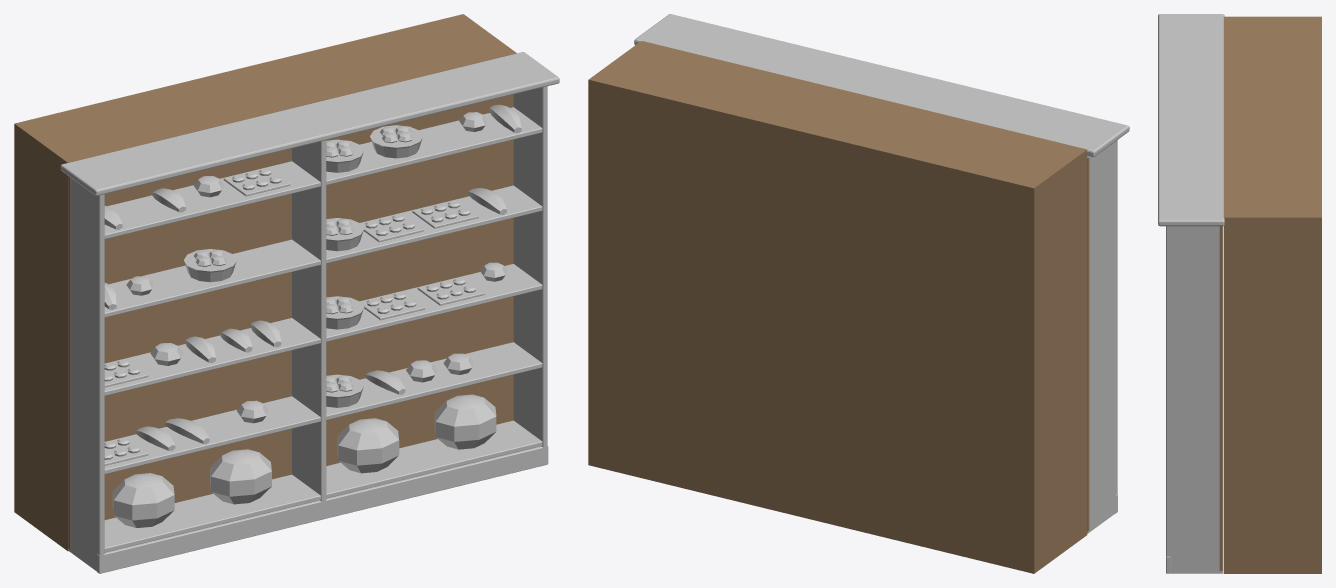
File: furn_shelves_bread.glb
3 views of the same model, side by side, from view 1: azimuth 30°, elevation 25°; view 2: azimuth 150°, elevation 25°; view 3: azimuth 270°, elevation 25° (orthographic). The views are drawn at different scales.
Parts seen in each view (by area): view 1: furn_shelves_bread; view 2: furn_shelves_bread; view 3: furn_shelves_bread.
Boxes of the visible parts, x1,y1,x2,y2 form: furn_shelves_bread: (14,14,559,573); furn_shelves_bread: (588,14,1129,573); furn_shelves_bread: (1158,14,1321,573).
Bounding box in the file's own units: 3.1 × 2.48 × 1.03.
